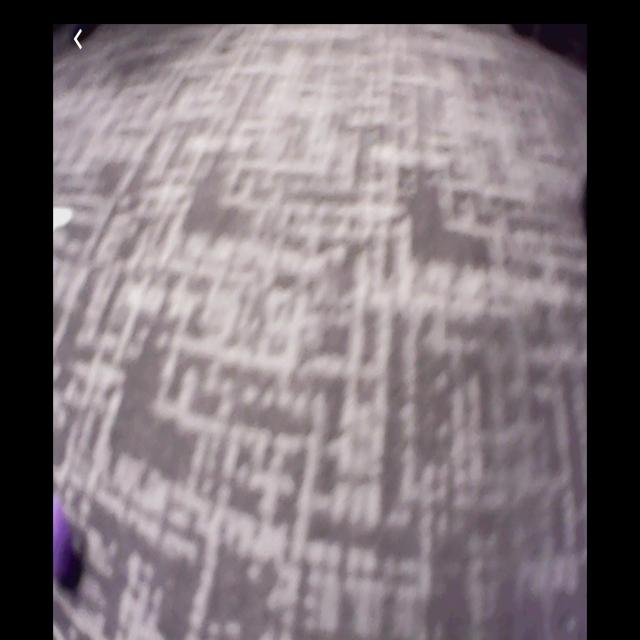ball: (55, 502, 74, 580)
